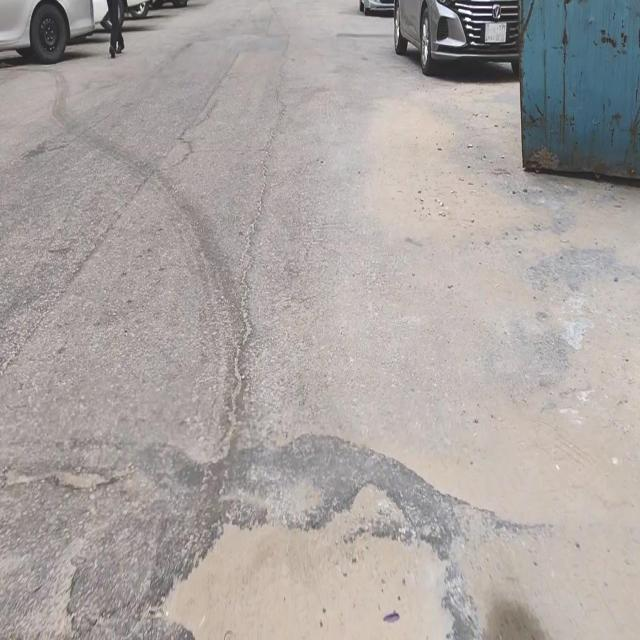Potholes: (153, 475, 457, 640)
